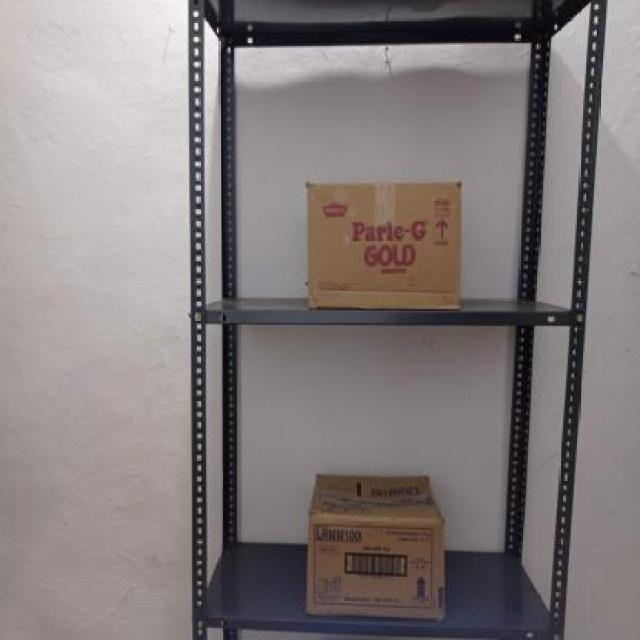box: (303, 180, 462, 312), (308, 514, 443, 614)
